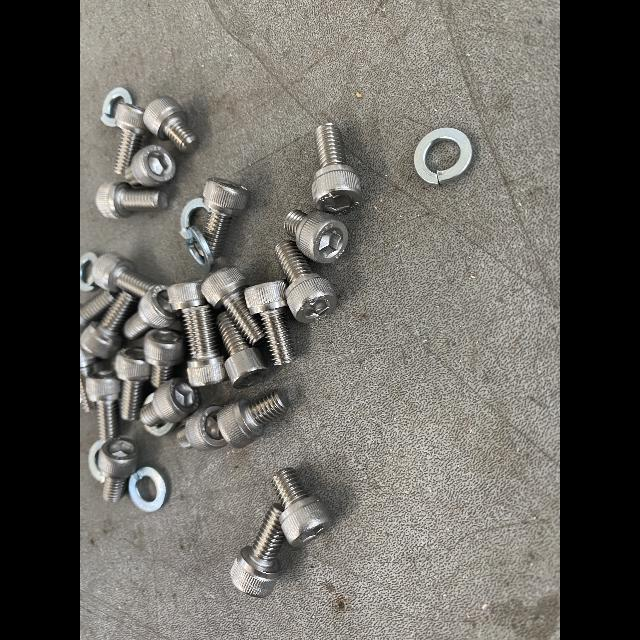Stainless Steel: (229, 502, 286, 598), (202, 265, 264, 347), (276, 241, 337, 324), (271, 467, 332, 546), (311, 123, 361, 214), (216, 390, 289, 448), (245, 281, 294, 365), (217, 314, 271, 389), (202, 178, 250, 259), (80, 292, 136, 360), (181, 304, 226, 387), (285, 210, 348, 264), (414, 128, 473, 185), (143, 96, 197, 152), (89, 253, 156, 297), (124, 285, 176, 341), (96, 182, 168, 219), (115, 346, 151, 420), (97, 437, 137, 502), (86, 370, 120, 441), (114, 102, 147, 175), (144, 330, 184, 387), (177, 405, 226, 450), (125, 145, 176, 187), (129, 467, 166, 514), (80, 290, 114, 330), (80, 349, 99, 413), (188, 226, 214, 272), (167, 282, 205, 310), (102, 87, 132, 115), (181, 198, 209, 227), (80, 252, 95, 292), (100, 113, 115, 127)
